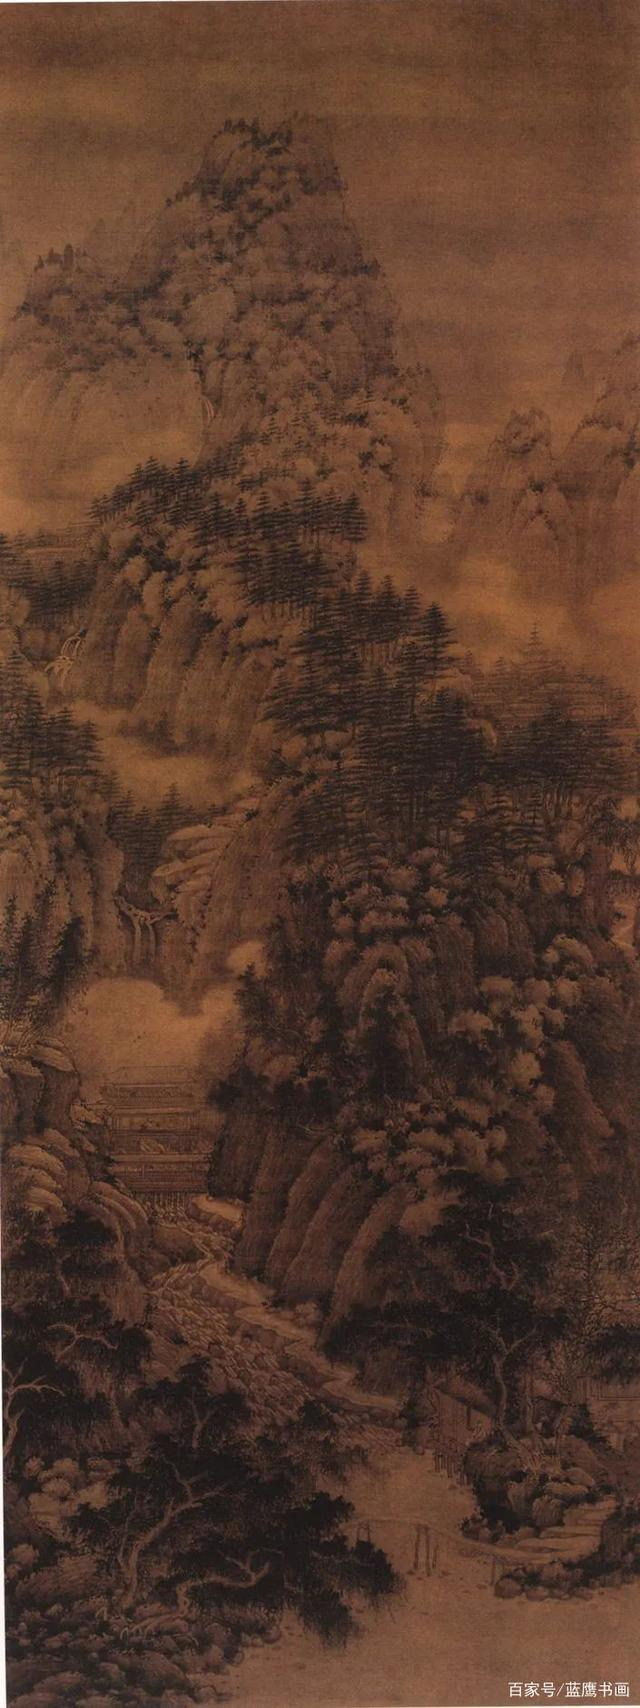booth: (428, 1372, 492, 1481)
bridge: (339, 1503, 552, 1589)
creek: (158, 1262, 308, 1422)
house: (96, 1070, 220, 1217)
range: (123, 163, 559, 1216)
river: (339, 1445, 501, 1708)
waterfall: (116, 893, 167, 989)
